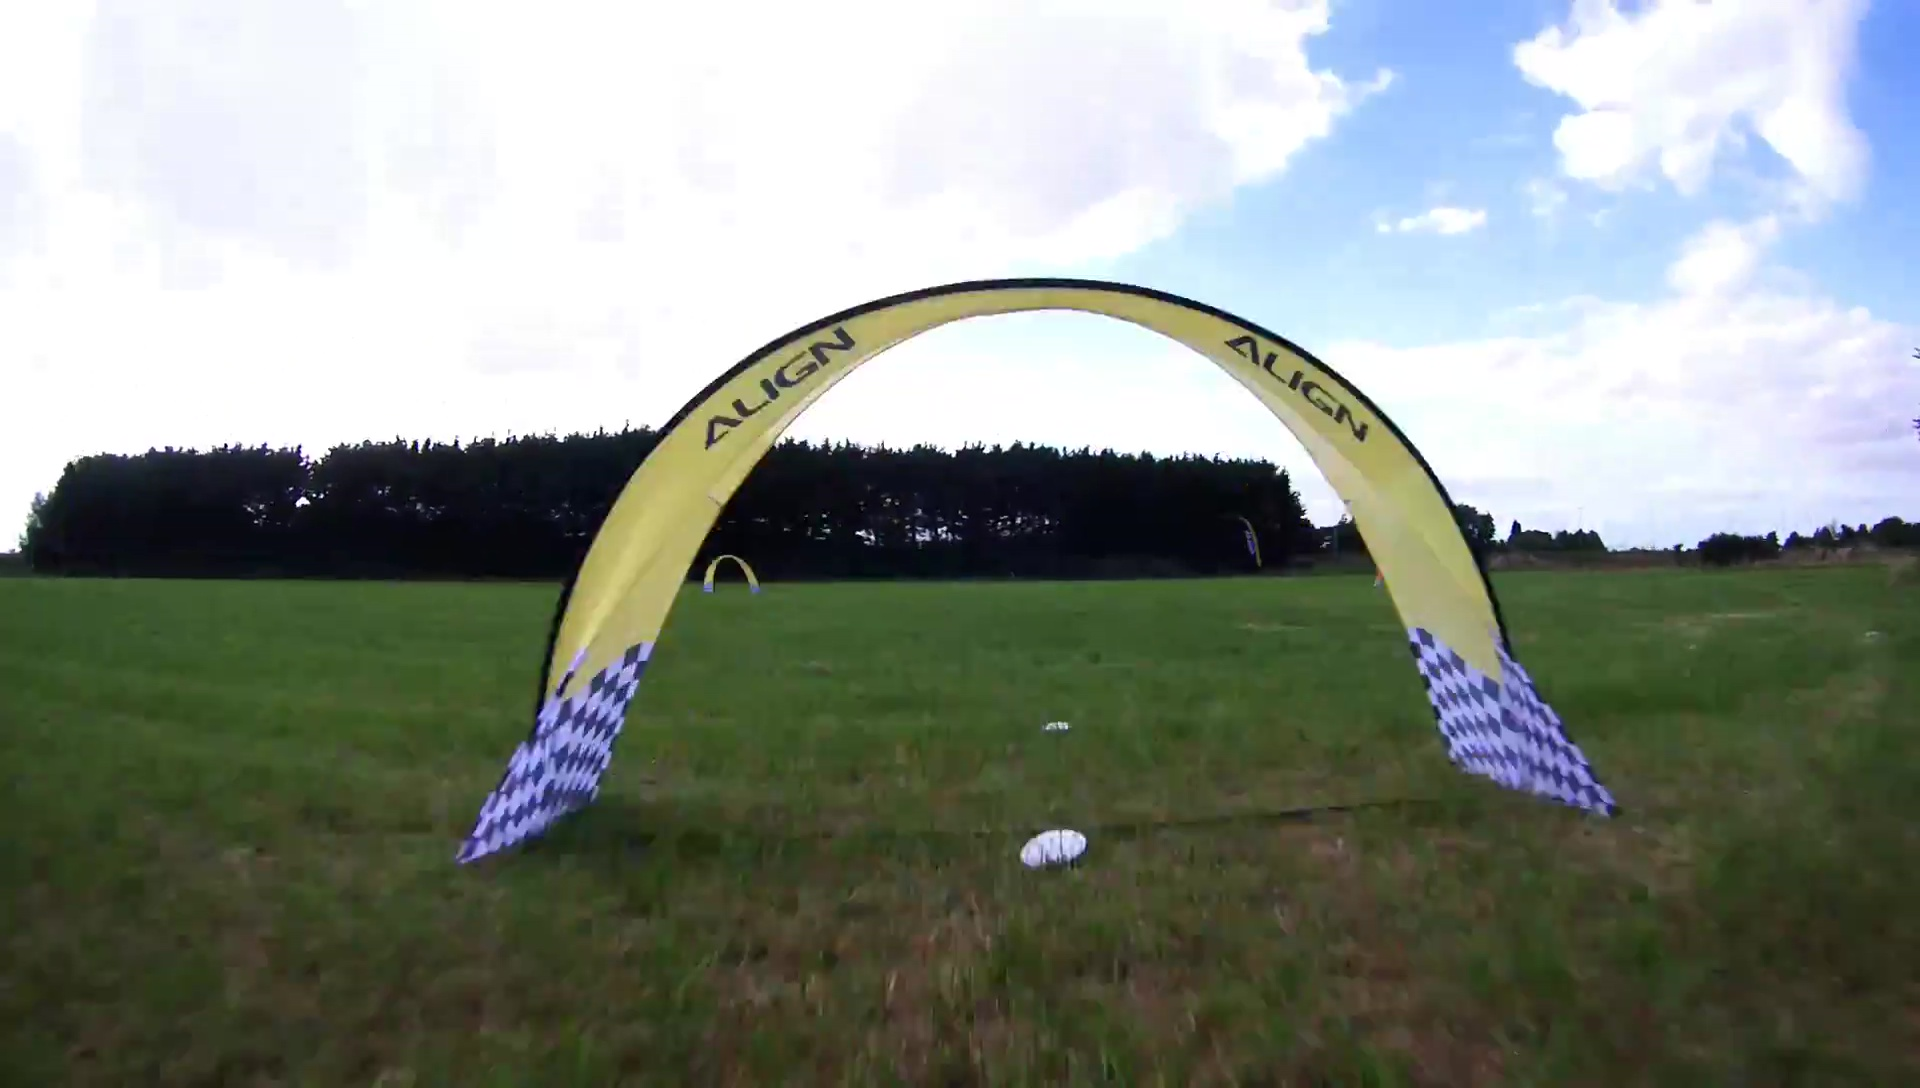gate: (455, 273, 1625, 862), (703, 554, 764, 596)
